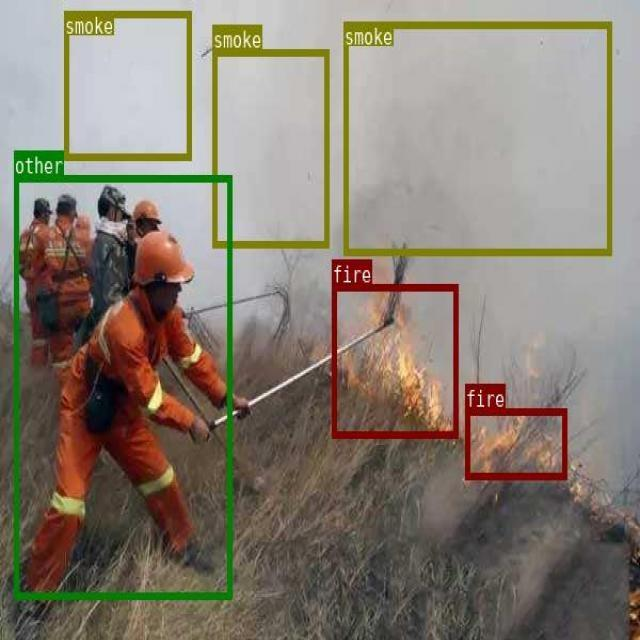fire: (332, 284, 458, 437), (465, 408, 566, 479)
smoke: (343, 21, 611, 255), (212, 48, 328, 246), (63, 10, 191, 160)
